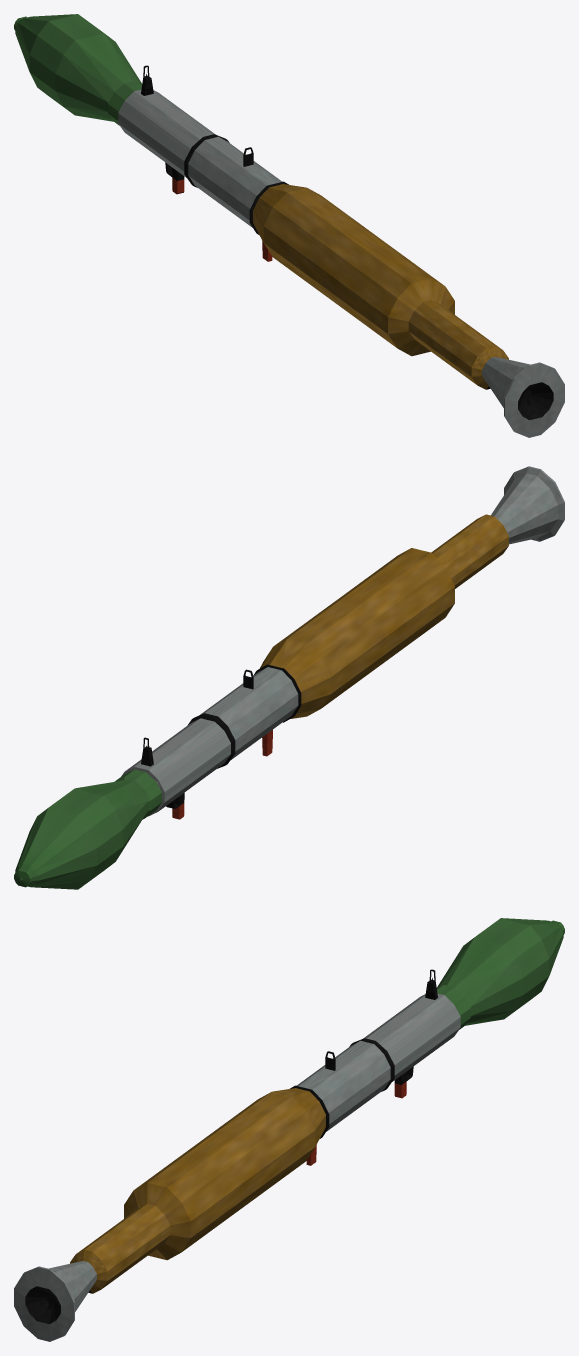
Rendered from rpg.obj.
3 views of the same model, one above another, from view 1: azimuth 30°, elevation 25°; view 2: azimuth 150°, elevation 25°; view 3: azimuth 330°, elevation 25° (orthographic).
Parts seen in each view (by area): view 1: Cube; view 2: Cube; view 3: Cube.
Boxes of the visible parts, left/top/right/bottom form: Cube: left=14, top=14, right=564, bottom=437; Cube: left=14, top=466, right=564, bottom=889; Cube: left=14, top=918, right=564, bottom=1341.
Bounding box in the file's own units: 4.03 × 5.95 × 53.05.
